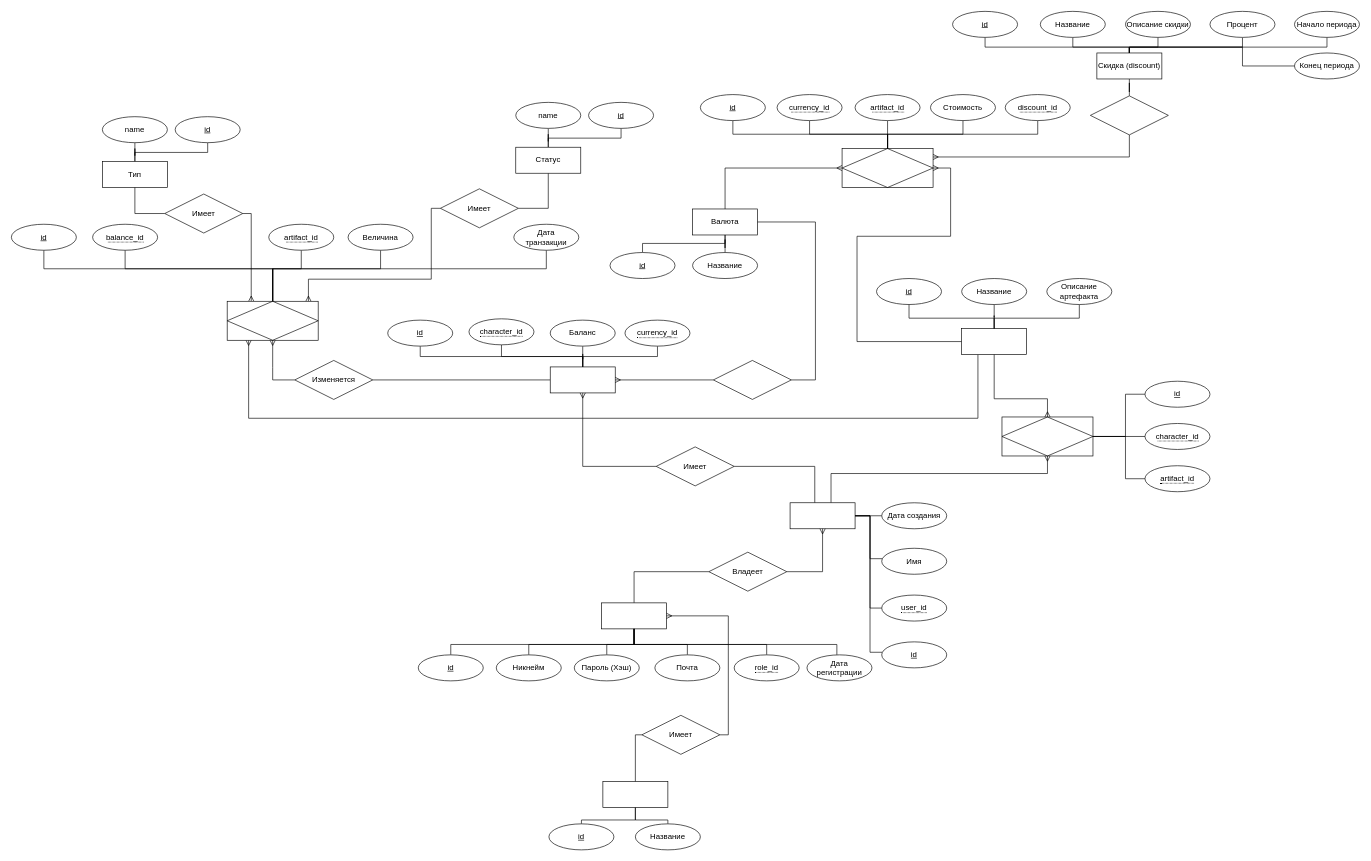
Image size: 1371x861. Some labels were removed from this diagram. The shapes that lost their labels are listed below. From the top down, each one's centre as x and y in pixels, then its label:
At point (1129, 115): "Действует".
At point (887, 168): "Продаётся за (StoreItem)".
At point (272, 320): "Транзакции".
At point (994, 341): "Артефакт".
At point (582, 379): "Баланс персонажа".
At point (752, 379): "Баланс с валютой".
At point (1047, 436): "В инвентаре (InventoryItem)".
At point (822, 515): "Персонаж".
At point (634, 615): "Пользователь".
At point (635, 794): "Роль".
